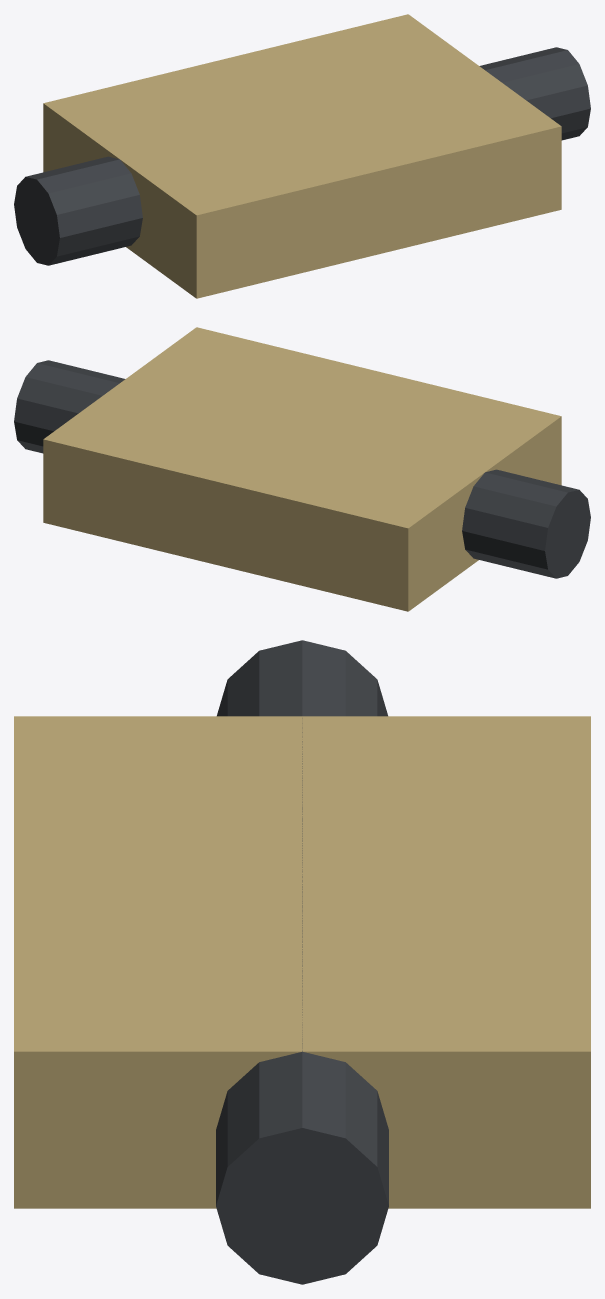
3 views of the same model, one above another, from view 1: azimuth 30°, elevation 25°; view 2: azimuth 150°, elevation 25°; view 3: azimuth 270°, elevation 25° (orthographic). The views are drawn at different scales.
Visible parts, largest first — view 1: geometry_0; view 2: geometry_0; view 3: geometry_0.
Part boxes in pixels (left/top/right/bottom): geometry_0: left=14, top=14, right=590, bottom=298; geometry_0: left=14, top=327, right=590, bottom=611; geometry_0: left=14, top=640, right=590, bottom=1284.
Size of the model in its own units: 0.08 by 0.012 by 0.04.
